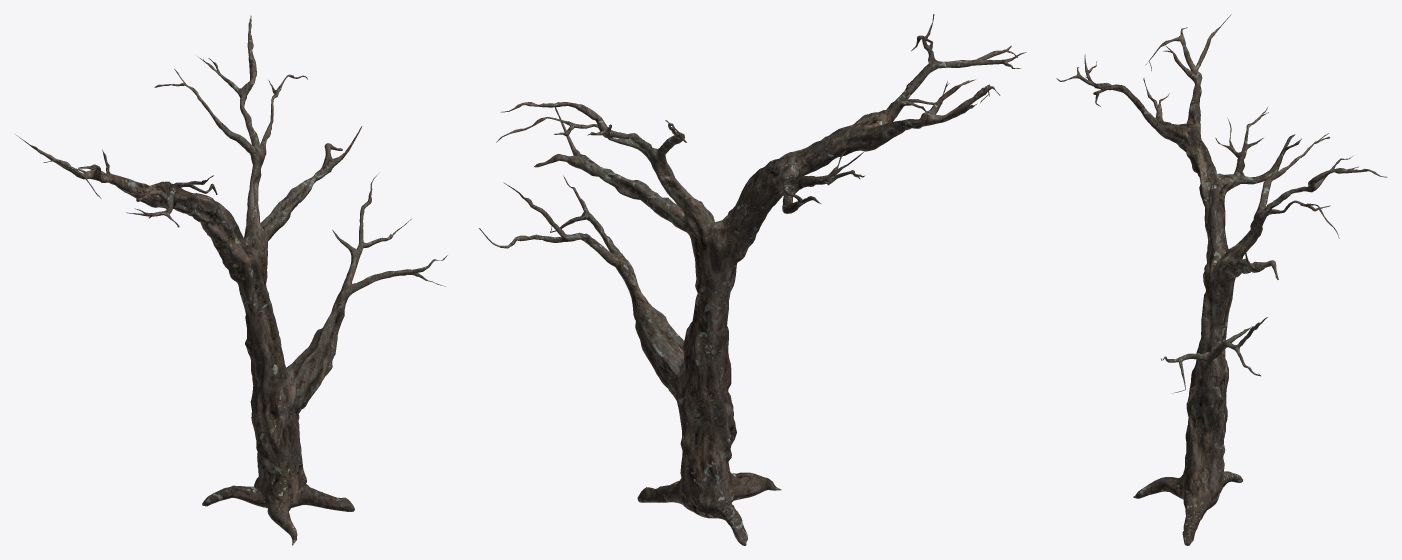
Rendered from Tree_Old_v01.glb.
The picture shows the model from 3 angles, left to right: view 1: azimuth 30°, elevation 25°; view 2: azimuth 150°, elevation 25°; view 3: azimuth 270°, elevation 25°; orthographic projection. The views are drawn at different scales.
Visible parts, largest first — view 1: SM_Tree_Old_01; view 2: SM_Tree_Old_01; view 3: SM_Tree_Old_01.
Boxes of the visible parts, x1,y1,x2,y2 form: SM_Tree_Old_01: (15,15,447,545); SM_Tree_Old_01: (479,14,1026,545); SM_Tree_Old_01: (1056,14,1387,545).
Size of the model in its own units: 6.55 by 6.6 by 5.04.
1 material, 1 textured.
